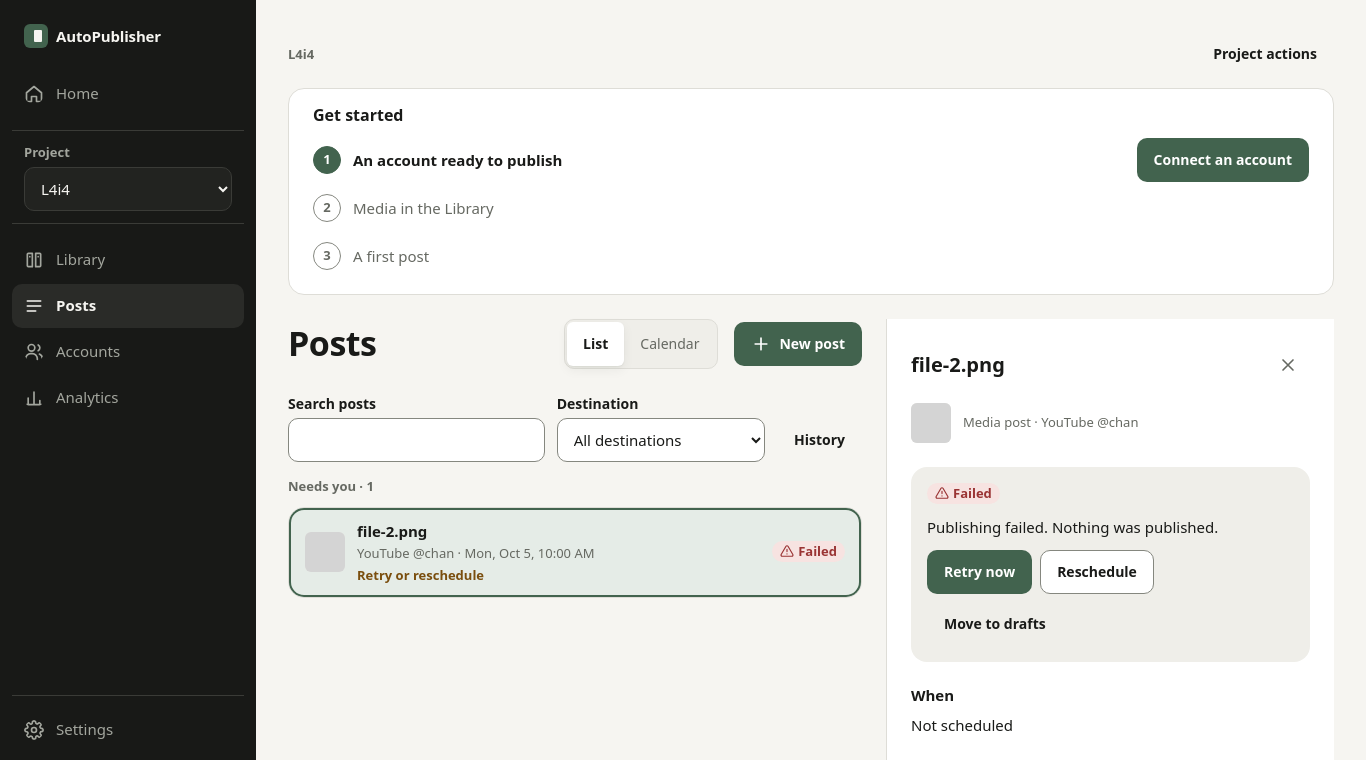
Test: Failed → Reschedule arms the new time, keeping the history
The image size is (1366, 760).
Click the button "Reschedule".
click(1097, 572)  # box [1040, 550, 1154, 594]
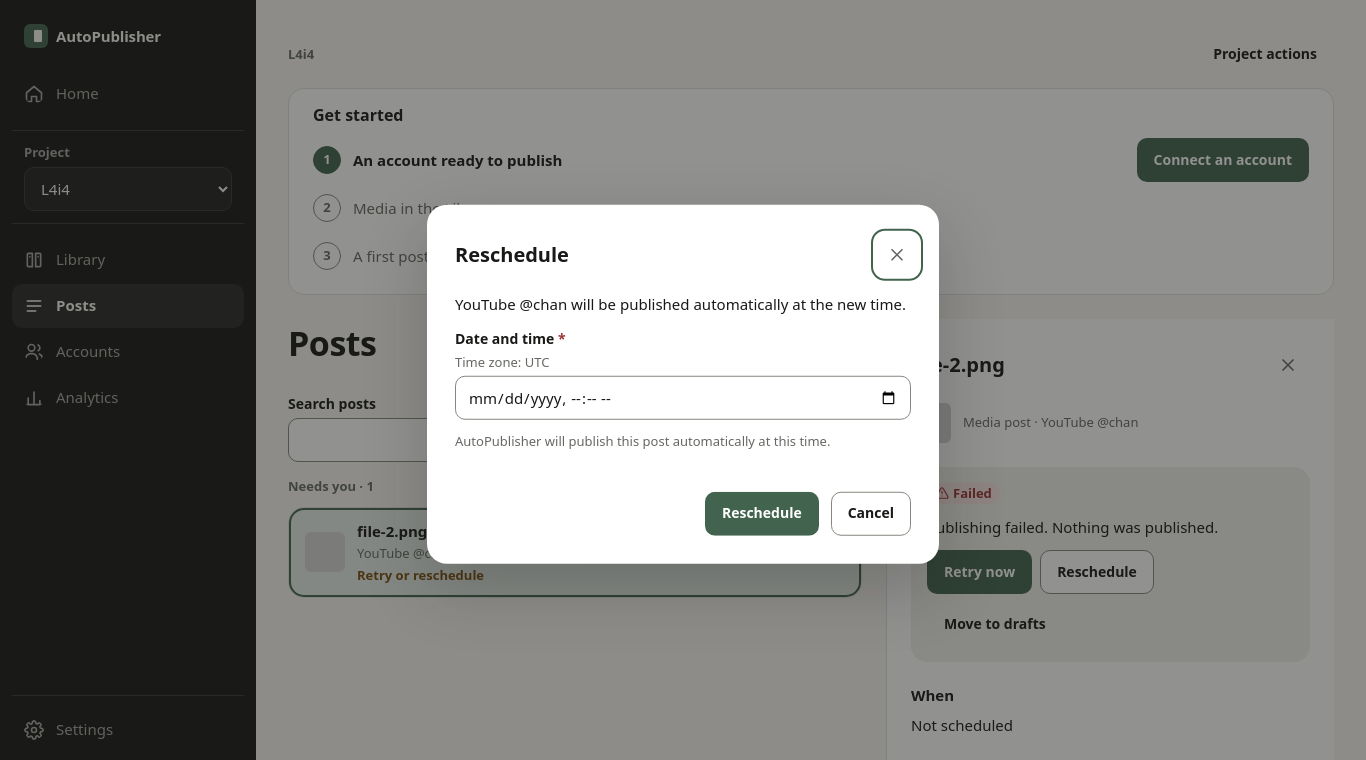
Result: the text "Time zone: UTC" is shown at [455, 352, 549, 370]
Type "2099-01-01T10:00" into the field labelled "Date and time *".
click(683, 398); type("2099-01-01T10:00")  # box [455, 376, 911, 420]
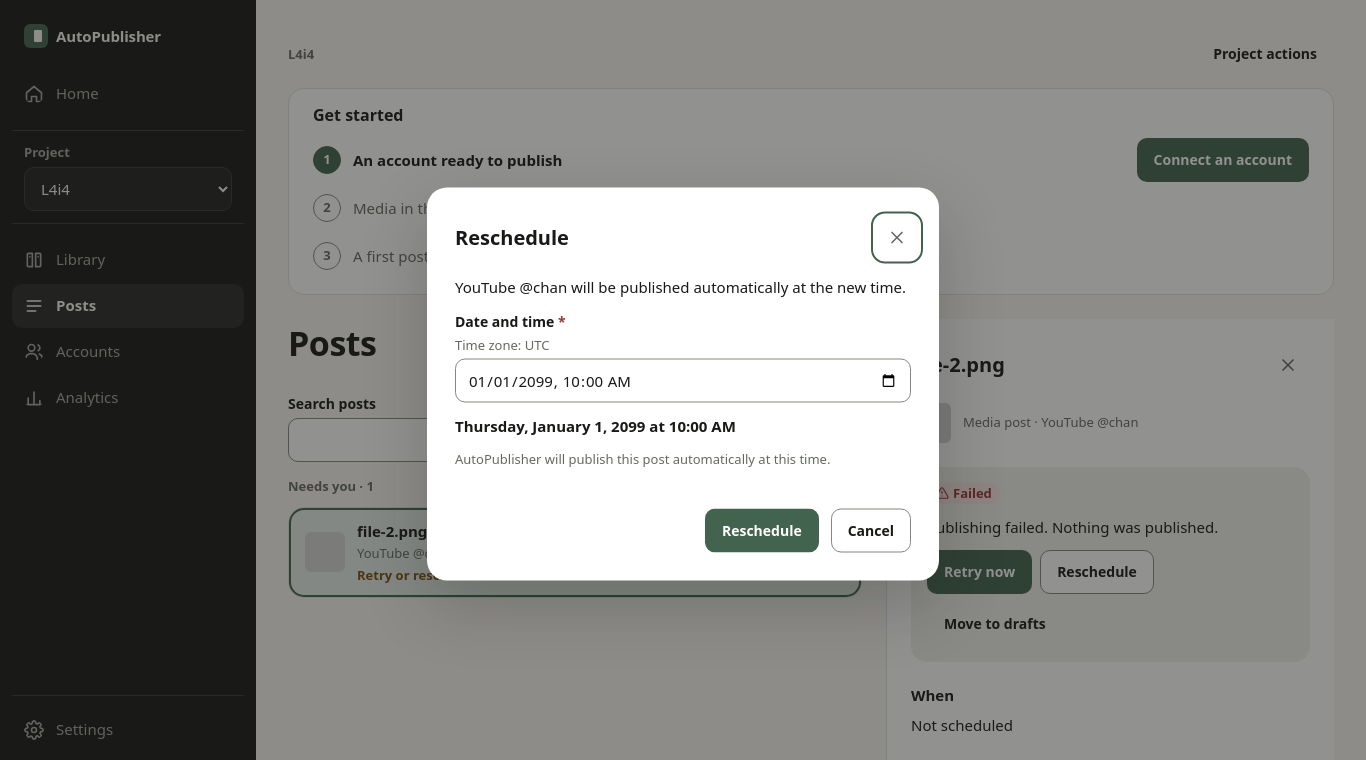
Click the button "Reschedule".
click(762, 530)  # box [705, 508, 819, 552]
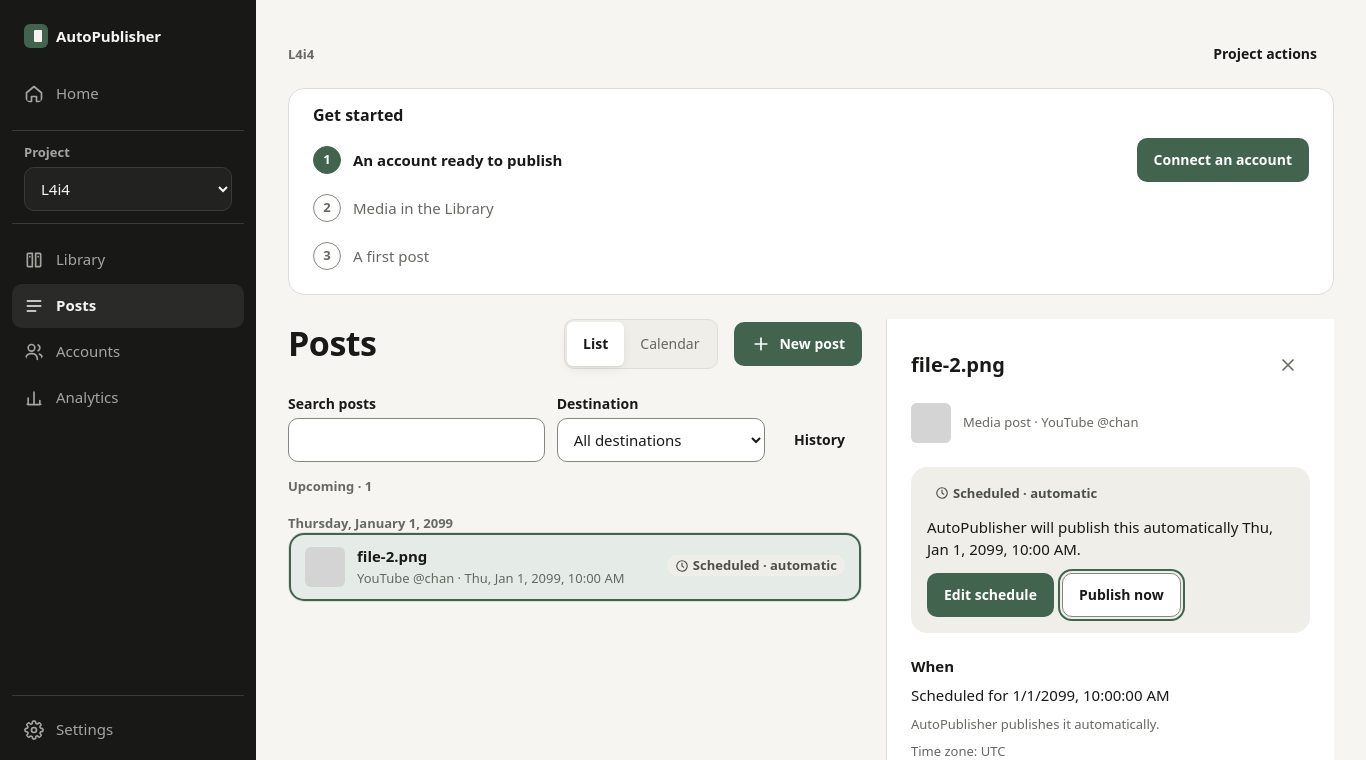
Result: the text "Scheduled · automatic" below "Media post" is shown at [953, 484, 1097, 502]
